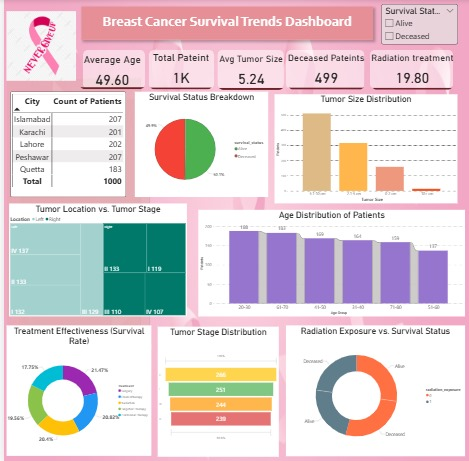

This screenshot's page, from the dashboard's own definition file:
{"tool":"powerbi","page":{"name":"Key ","canvas":[1920,1920],"ordinal":0},"visuals":[{"type":"shape","box":[323.8,210,257.4,161.8],"z":0,"group":"g1"},{"type":"cardVisual","title":"Average Age ","fields":{"Data":["Avg(Cleaned_data.age)"]},"box":[302.4,224.1,286.3,152.5],"z":0,"group":"g7"},{"type":"shape","title":"Product Rec shape","box":[0,315.8,568.4,1431.6],"z":0},{"type":"textbox","title":"Header Text box","box":[318.3,33.6,1203.5,136.8],"z":1000,"group":"g8"},{"type":"group","id":"g1","title":"Group 1","box":[323.8,210,1529.4,162.7],"z":1000},{"type":"shape","box":[1508.5,210.3,344.7,161],"z":1000,"group":"g1"},{"type":"cardVisual","title":"Total Pateint","fields":{"Data":["CountNonNull(Cleaned_data.patient_id)"]},"box":[591.6,213.1,277,164.4],"z":1000,"group":"g7"},{"type":"shape","box":[1162.9,210,324.7,162.3],"z":2000,"group":"g1"},{"type":"cardVisual","title":" Avg Tumor Size","fields":{"Data":["Avg(Cleaned_data.tumor_size_cm)"]},"box":[874.3,222.2,289.7,155.2],"z":2000,"group":"g7"},{"type":"shape","title":"Salesperson Rec Shape","box":[49.5,395.6,559.3,1433],"z":2000},{"type":"shape","box":[880.7,211.2,274.7,161.4],"z":3000,"group":"g1"},{"type":"cardVisual","title":"Radiation treatment","fields":{"Data":["Cleaned_data.Percentage of Patients with Radiation"]},"box":[1505.5,215.8,351.8,160.2],"z":3000,"group":"g7"},{"type":"group","id":"g2","title":"Monthly Trend","box":[28,1003.9,561.2,285.7],"z":3000},{"type":"shape","box":[596.4,210,269.9,162.7],"z":4000,"group":"g1"},{"type":"cardVisual","title":"Deceased Pateints","fields":{"Data":["Cleaned_data.Deceased Patients"]},"box":[1160.5,219.9,333.3,159.8],"z":4000,"group":"g7"},{"type":"group","id":"g3","title":"Products Top & Bottom","box":[33.9,647.1,553.1,285.4],"z":4000},{"type":"group","id":"g4","title":"Perfor. Matrix","box":[1294.3,939.4,560,303.5],"z":5000},{"type":"group","id":"g5","title":"Profit %","box":[685.6,934,555.1,291.8],"z":6000},{"type":"group","id":"g6","title":"Product & SP Table","box":[12.1,1310.3,581.6,540.8],"z":7000},{"type":"group","id":"g7","title":"KPI Cards","box":[302.4,213.1,1554.9,166.6],"z":8000},{"type":"group","id":"g8","title":"Header","box":[318.3,33.6,1203.5,136.8],"z":9000},{"type":"group","id":"g9","title":"Facts","box":[576.7,397,954.5,187.8],"z":10000},{"type":"group","id":"g10","title":"Trees","box":[260.3,692.1,984.1,1136.5],"z":11000},{"type":"group","id":"g11","title":"Key & Recommend","box":[996.8,1041.3,904.8,791.5],"z":12000},{"type":"group","id":"g12","title":"Recommend Group","box":[804.1,395.9,1085.7,1436.7],"z":13000},{"type":"group","id":"g13","title":"Methodology Group","box":[854.5,692.4,1065.2,1050],"z":14000},{"type":"image","box":[5.9,5.9,297.1,376.5],"z":15000},{"type":"slicer","fields":{"Values":["Cleaned_data.survival_status"]},"box":[1557.4,23.5,316.2,166.2],"z":16000},{"type":"columnChart","title":"Age Distribution of Patients","fields":{"Y":["Sum(Age_dist.patient_count)"],"Category":["Age_dist.age_group"]},"box":[801.9,870.1,1100.7,440.3],"z":17000},{"type":"clusteredColumnChart","title":"Tumor Size Distribution","fields":{"Category":["Tumor_dist.tumor_size_group"],"Y":["Sum(Tumor_dist.patient_count)"]},"box":[1116.4,393.1,754.8,450.8],"z":18000},{"type":"pieChart","title":"Survival Status Breakdown","fields":{"Category":["survival_status.survival_status"],"Y":["Sum(survival_status.patient_count)"]},"box":[538.5,380.8,550,434.6],"z":19000},{"type":"donutChart","title":"Treatment Effectiveness (Survival Rate)","fields":{"Y":["Sum(treatment.survival_rate)"],"Category":["treatment.treatment_type"]},"box":[11.4,1347.7,597.7,538.6],"z":20000},{"type":"donutChart","title":"Radiation Exposure vs. Survival Status","fields":{"Category":["radiation_survival.radiation_exposure"],"Series":["radiation_survival.survival_status"],"Y":["Sum(radiation_survival.patient_count)"]},"box":[1163.6,1347,739,539.9],"z":22000},{"type":"treemap","title":"Tumor Location vs. Tumor Stage","fields":{"Details":["tumour_locstage.tumor_stage"],"Group":["tumour_locstage.tumor_location"],"Values":["Sum(tumour_locstage.patient_count)"]},"box":[21,843.9,733.8,466.5],"z":23000},{"type":"funnel","title":"Tumor Stage Distribution","fields":{"Category":["Tumor_stage.tumor_stage"],"Y":["Sum(Tumor_stage.patient_count)"]},"box":[634.8,1350,500,537],"z":24000},{"type":"pivotTable","fields":{"Rows":["Cleaned_data.city"],"Values":["CountNonNull(Cleaned_data.patient_id)"]},"box":[26.2,382.6,477,435],"z":25000}]}

Visuals, with their boxes in screenshot pixels (x1, y1, x2, y2), scaled from the page's 1920x1920 canvas onto the 469x461 screenshot:
shape: left=79, top=50, right=142, bottom=89
"Average Age " cardVisual: left=74, top=54, right=144, bottom=90
"Product Rec shape" shape: left=0, top=76, right=139, bottom=420
"Header Text box" textbox: left=78, top=8, right=372, bottom=41
"Group 1" group: left=79, top=50, right=453, bottom=89
shape: left=368, top=50, right=453, bottom=89
"Total Pateint" cardVisual: left=145, top=51, right=212, bottom=91
shape: left=284, top=50, right=363, bottom=89
" Avg Tumor Size" cardVisual: left=214, top=53, right=284, bottom=91
"Salesperson Rec Shape" shape: left=12, top=95, right=149, bottom=439
shape: left=215, top=51, right=282, bottom=89
"Radiation treatment" cardVisual: left=368, top=52, right=454, bottom=90
"Monthly Trend" group: left=7, top=241, right=144, bottom=310
shape: left=146, top=50, right=212, bottom=89
"Deceased Pateints" cardVisual: left=283, top=53, right=365, bottom=91
"Products Top & Bottom" group: left=8, top=155, right=143, bottom=224
"Perfor. Matrix" group: left=316, top=226, right=453, bottom=298
"Profit %" group: left=167, top=224, right=303, bottom=294
"Product & SP Table" group: left=3, top=315, right=145, bottom=444
"KPI Cards" group: left=74, top=51, right=454, bottom=91
"Header" group: left=78, top=8, right=372, bottom=41
"Facts" group: left=141, top=95, right=374, bottom=140
"Trees" group: left=64, top=166, right=304, bottom=439
"Key & Recommend" group: left=243, top=250, right=465, bottom=440
"Recommend Group" group: left=196, top=95, right=462, bottom=440
"Methodology Group" group: left=209, top=166, right=468, bottom=418
image: left=1, top=1, right=74, bottom=92
slicer - Cleaned_data.survival_status: left=380, top=6, right=458, bottom=46
"Age Distribution of Patients" columnChart: left=196, top=209, right=465, bottom=315
"Tumor Size Distribution" clusteredColumnChart: left=273, top=94, right=457, bottom=203
"Survival Status Breakdown" pieChart: left=132, top=91, right=266, bottom=196
"Treatment Effectiveness (Survival Rate)" donutChart: left=3, top=324, right=149, bottom=453
"Radiation Exposure vs. Survival Status" donutChart: left=284, top=323, right=465, bottom=453
"Tumor Location vs. Tumor Stage" treemap: left=5, top=203, right=184, bottom=315
"Tumor Stage Distribution" funnel: left=155, top=324, right=277, bottom=453
pivotTable - Cleaned_data.city x CountNonNull(Cleaned_data.patient_id): left=6, top=92, right=123, bottom=196
